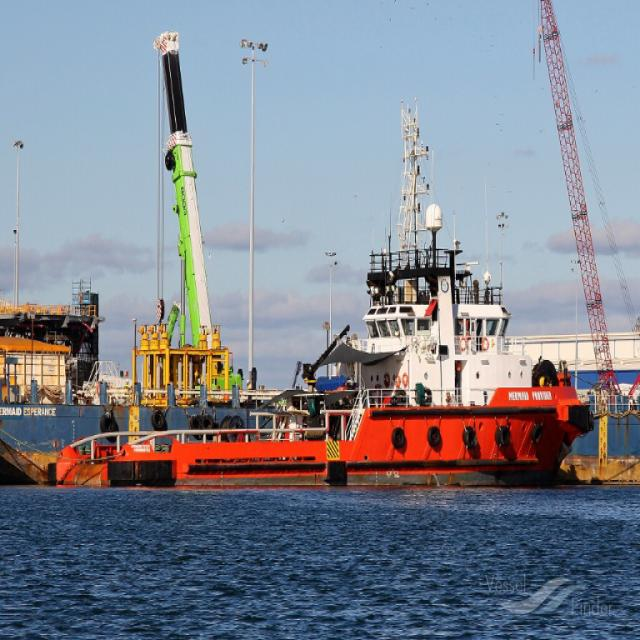OCR: (507, 389, 555, 411)
